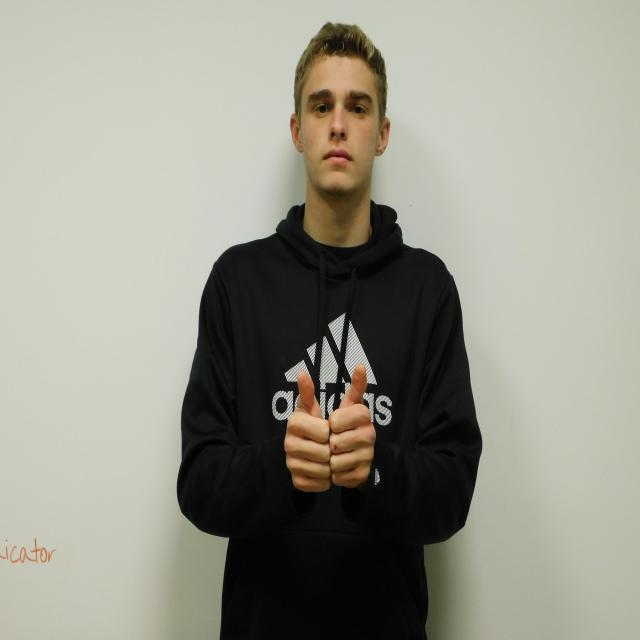how: (284, 363, 376, 493)
